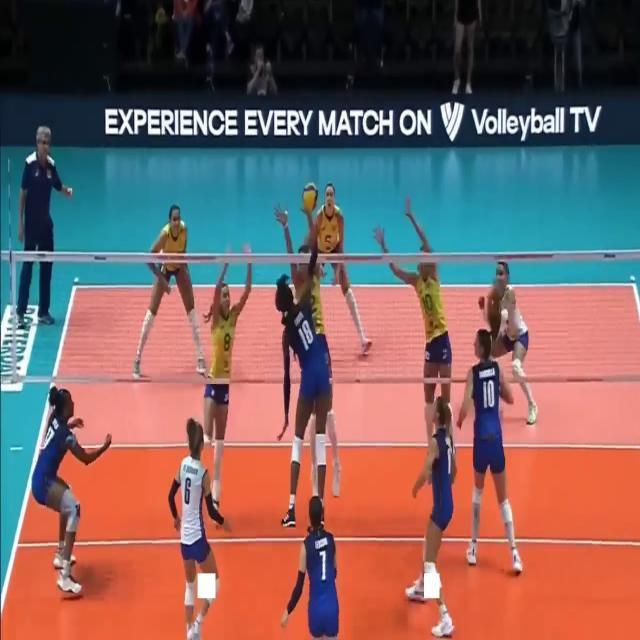volleyball: (301, 182, 319, 212)
